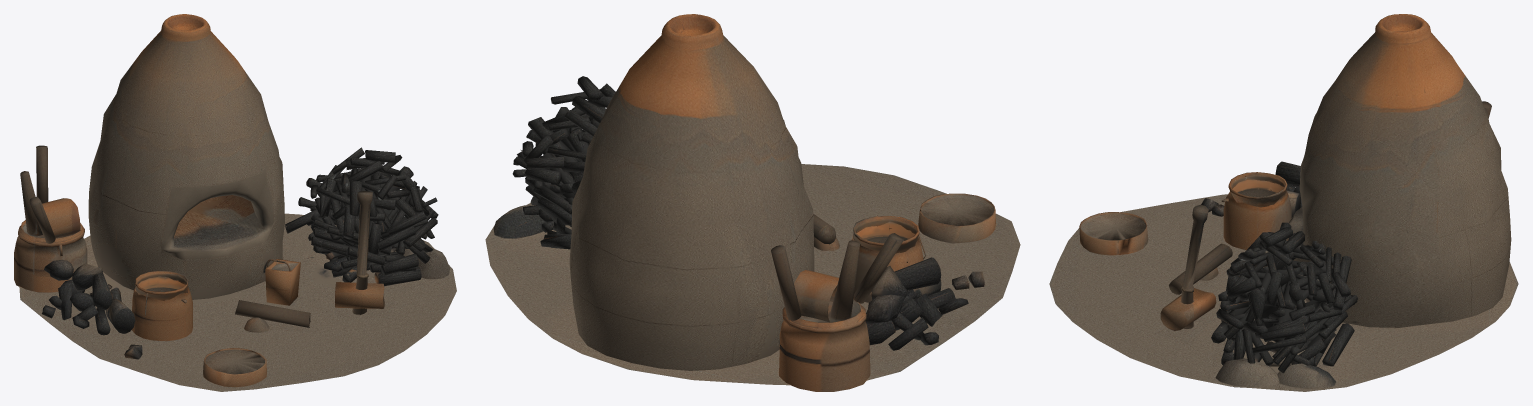
Rendered from demir_ocagi.glb.
The picture shows the model from 3 angles, left to right: view 1: azimuth 30°, elevation 25°; view 2: azimuth 150°, elevation 25°; view 3: azimuth 270°, elevation 25°; orthographic projection. The views are drawn at different scales.
Bounding box in the file's own units: 0.9453 × 0.5879 × 0.9404.
1 material, 1 textured.
